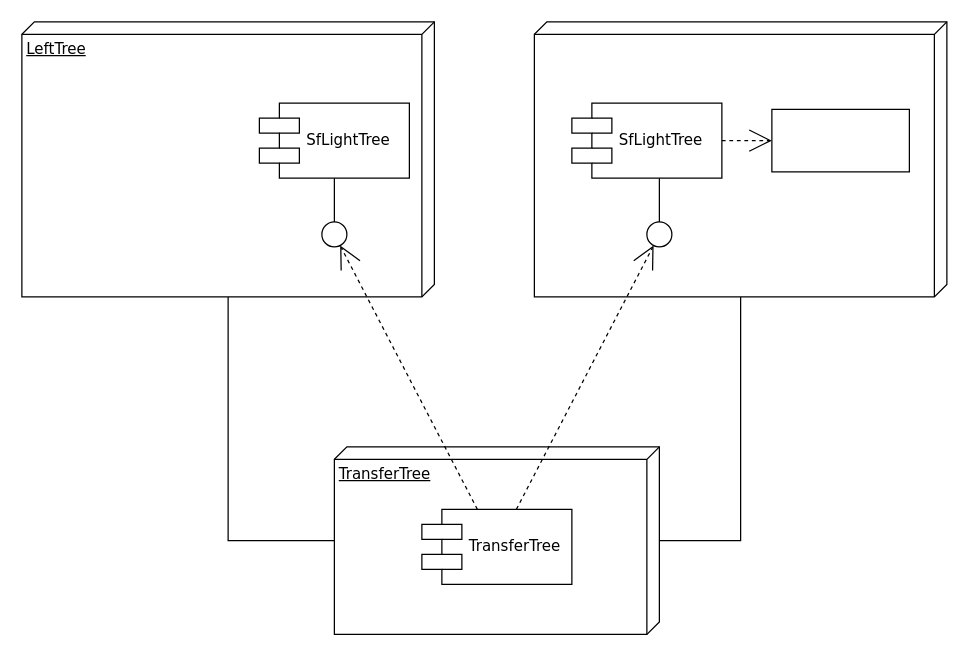
The diagram is 969 pixels wide and 656 high, and some of its shapes have lost their labels. The shapes that lost their labels are listed below. From the top down, each one's box as (x1, y1, x2, y2) in pixels, then its label:
(533, 21, 947, 297): RightTree
(771, 108, 909, 172): «interface» Name
